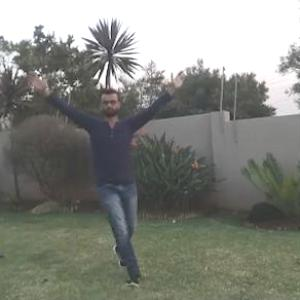takeoff: (26, 72, 187, 277)
